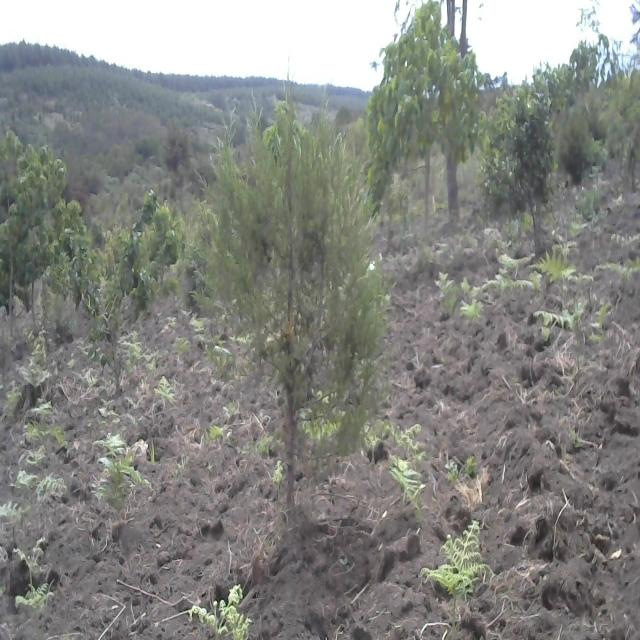Podocarpus falcatus: (174, 74, 408, 480)
